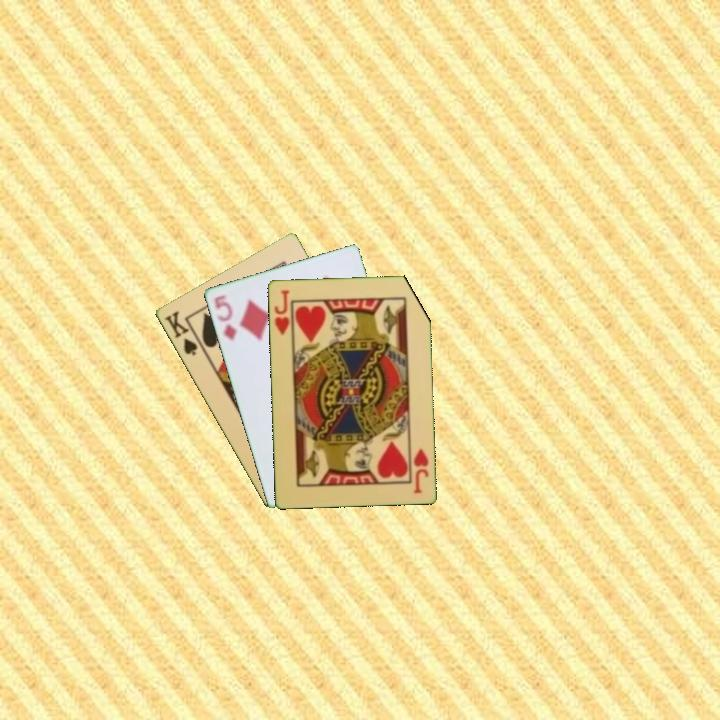5d: (211, 291, 239, 343)
Jh: (270, 286, 295, 341), (409, 445, 431, 496)
Ks: (161, 307, 205, 358)
